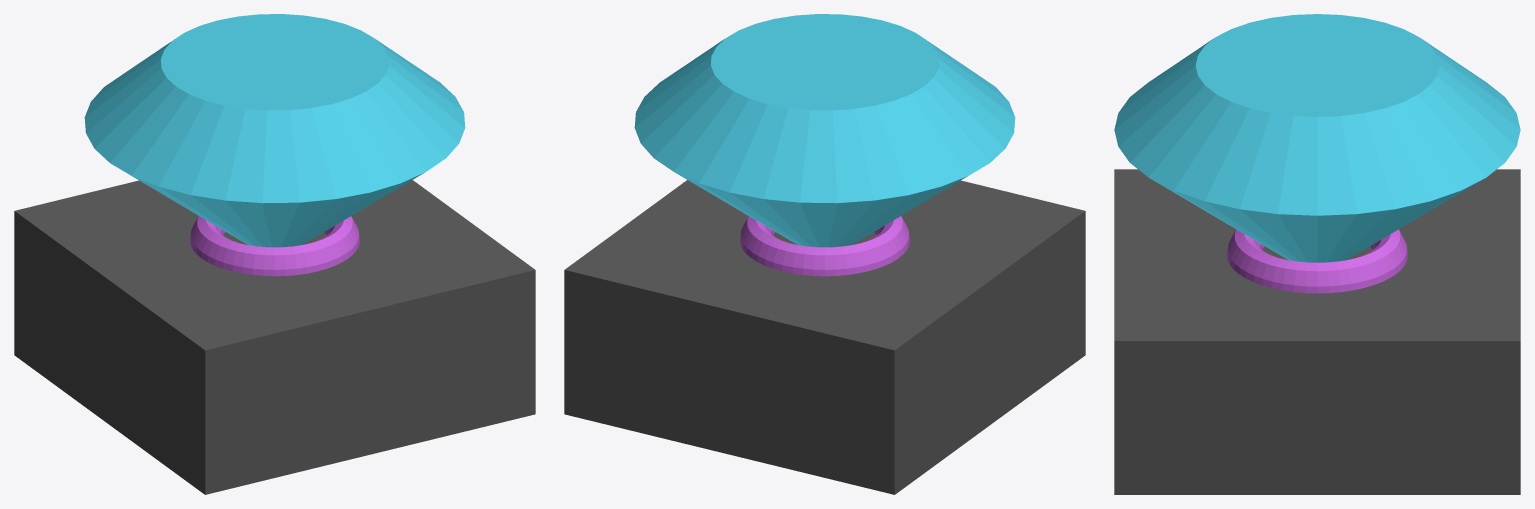
The model's file is hiddenElement.fbx.
3 views of the same model, side by side, from view 1: azimuth 30°, elevation 25°; view 2: azimuth 150°, elevation 25°; view 3: azimuth 270°, elevation 25° (orthographic). The views are drawn at different scales.
Visible parts, largest first — view 1: Cube, Diamond, Torus; view 2: Cube, Diamond, Torus; view 3: Cube, Diamond, Torus.
Part boxes in pixels (bbox=[...]): Cube: bbox=[14, 180, 535, 494]; Diamond: bbox=[84, 14, 465, 247]; Torus: bbox=[190, 216, 359, 276]; Cube: bbox=[564, 180, 1085, 494]; Diamond: bbox=[634, 14, 1015, 247]; Torus: bbox=[740, 216, 909, 276]; Cube: bbox=[1114, 169, 1520, 494]; Diamond: bbox=[1114, 14, 1520, 262]; Torus: bbox=[1227, 229, 1407, 293].
Bounding box in the file's own units: 200 × 200 × 187.
